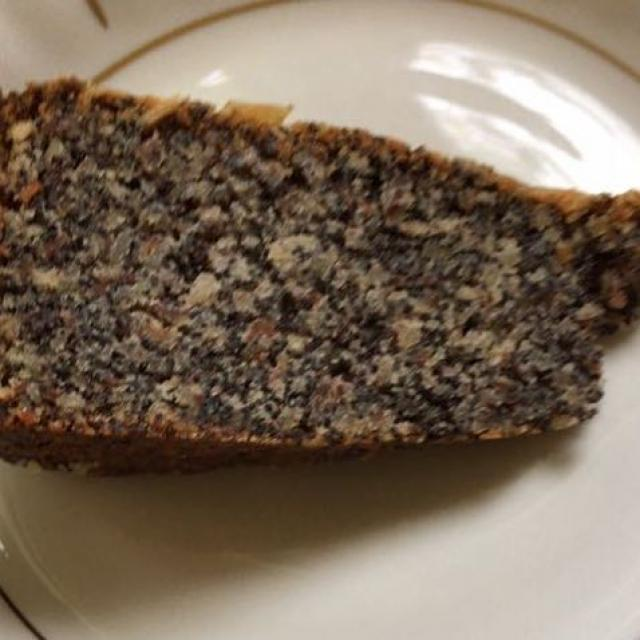tart: (10, 92, 635, 467)
